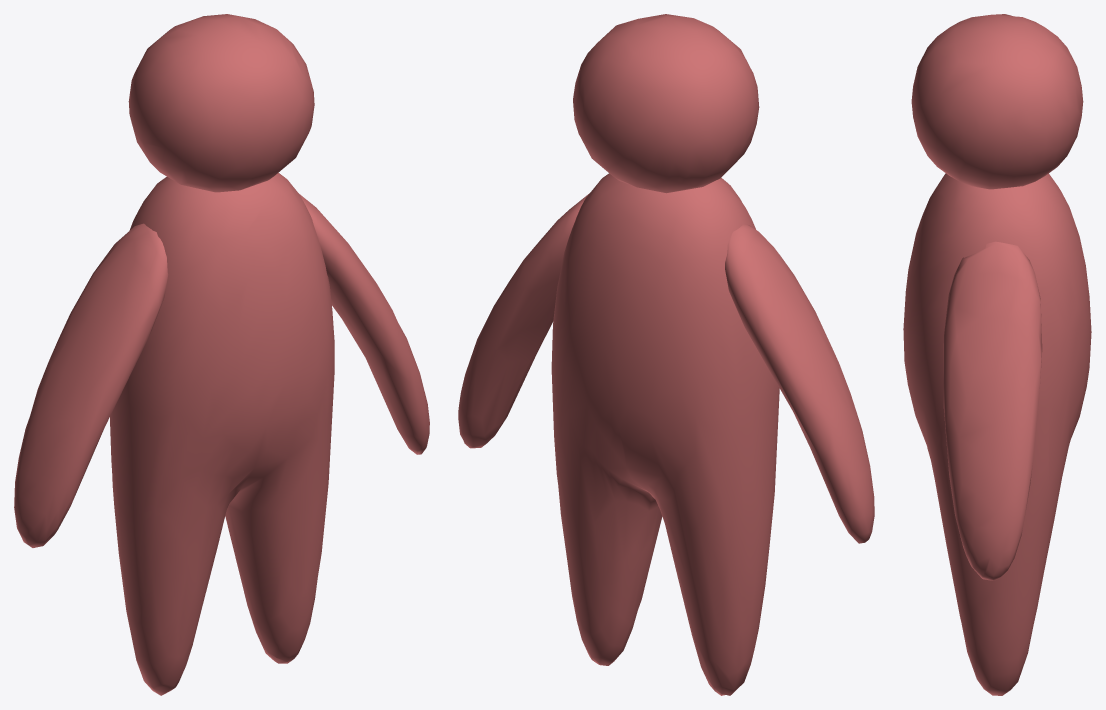
The model's file is DSP_character_model_v05.fbx.
3 renders of one model, left to right at view 1: azimuth 30°, elevation 25°; view 2: azimuth 150°, elevation 25°; view 3: azimuth 270°, elevation 25°, orthographic. The views are drawn at different scales.
Parts seen in each view (by area): view 1: Cube.002; view 2: Cube.002; view 3: Cube.002.
Part boxes in pixels (bbox=[...]): Cube.002: bbox=[14, 14, 429, 695]; Cube.002: bbox=[458, 14, 874, 695]; Cube.002: bbox=[903, 14, 1091, 695].
Bounding box in the file's own units: 184 × 285 × 75.61.
